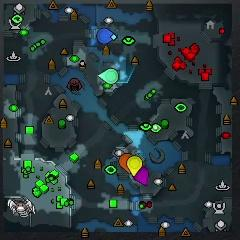p1: (97, 29, 116, 43)
p2: (98, 68, 119, 84)
p3: (134, 168, 149, 187)
p4: (127, 156, 142, 176)
p5: (119, 153, 134, 174)
